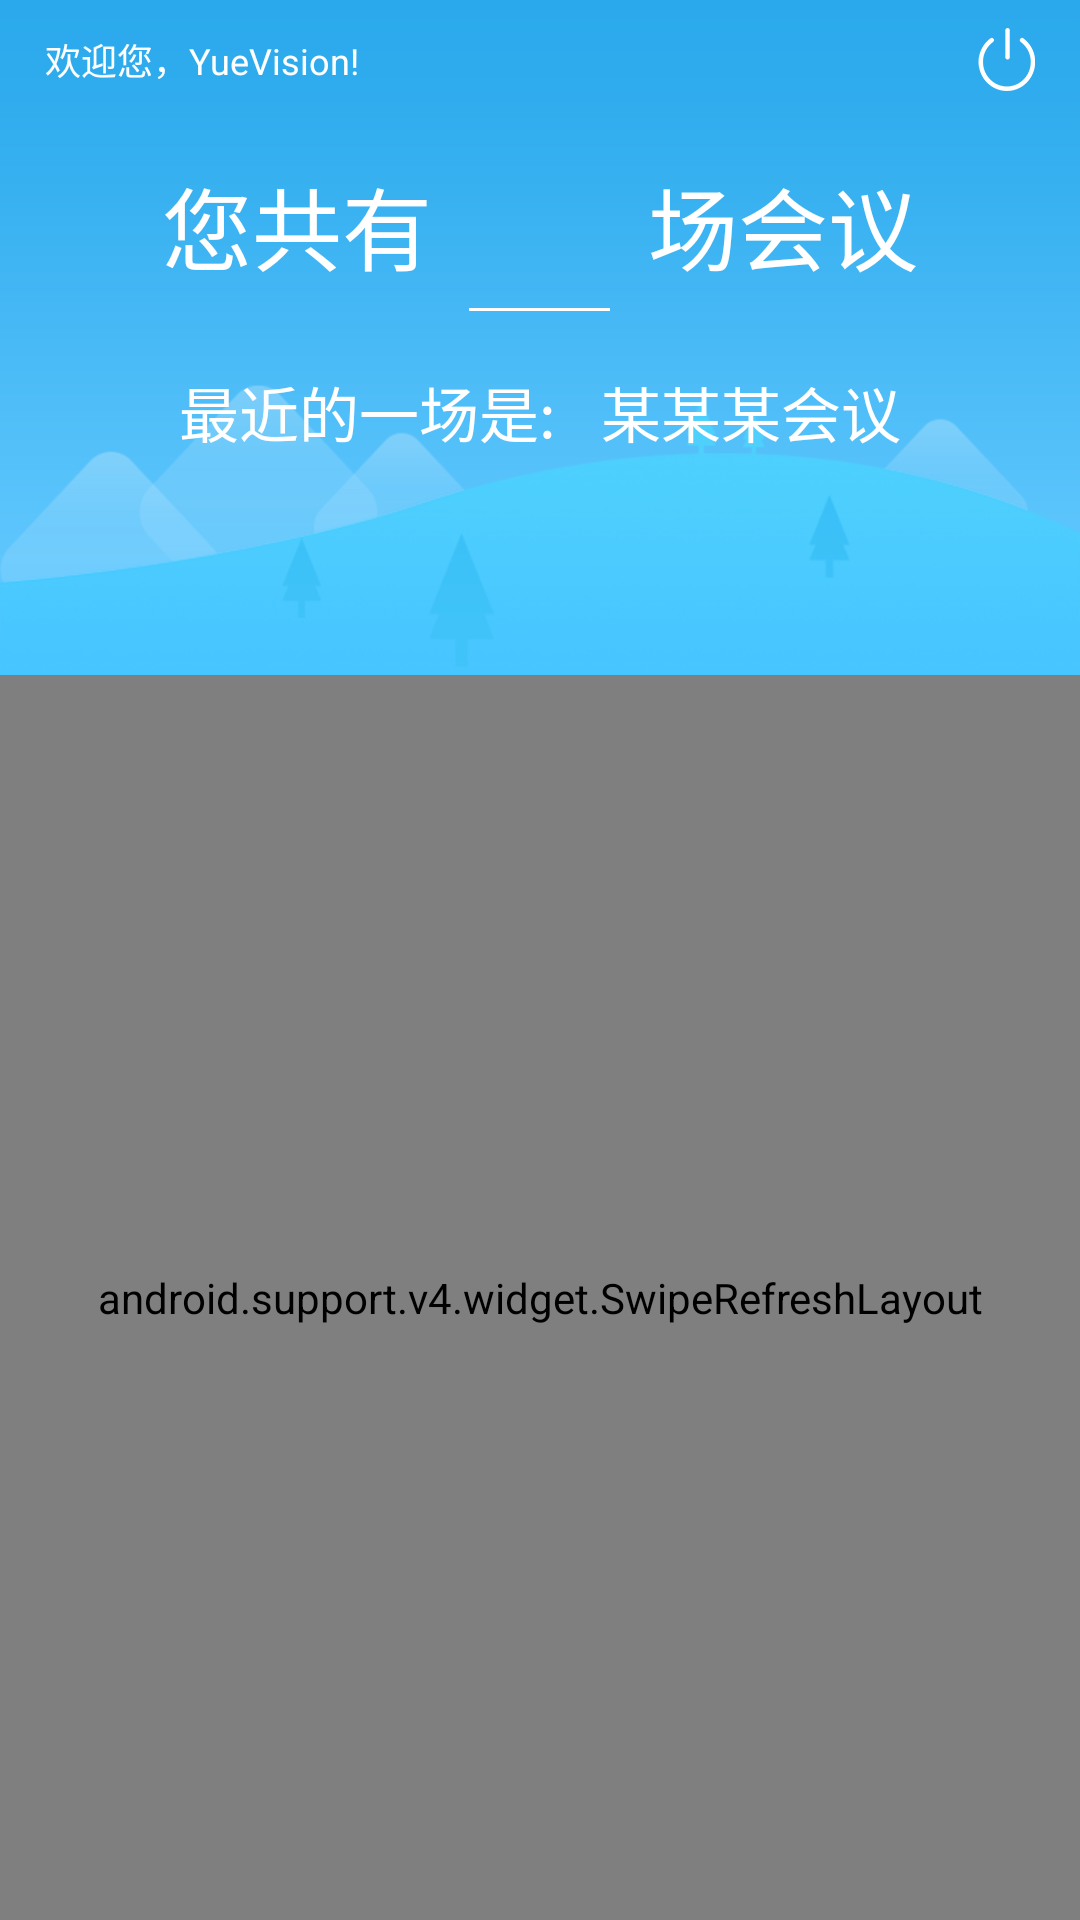

Where icons sit on this 1080w x 1920h app screen, as (x1, y1, x2, y2):
quit: (978, 28, 1035, 91)
